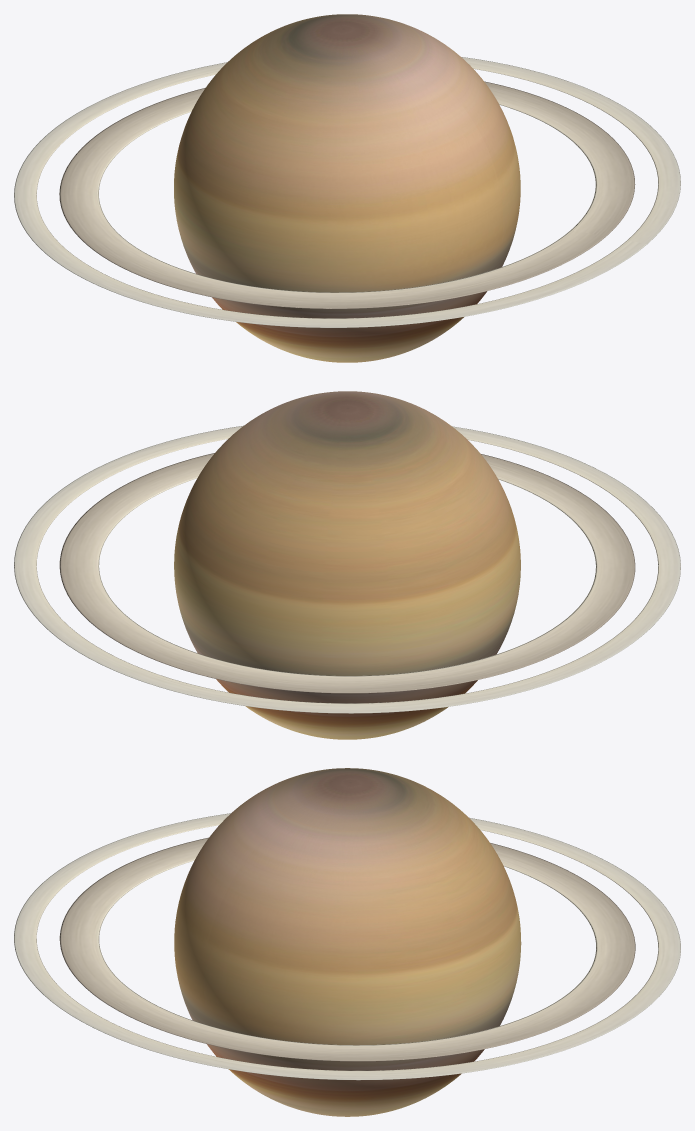
Rendered from saturn.obj.
3 renders of one model, top to bottom at view 1: azimuth 30°, elevation 25°; view 2: azimuth 150°, elevation 25°; view 3: azimuth 270°, elevation 25°, orthographic.
Visible parts, largest first — view 1: saturn; view 2: saturn; view 3: saturn.
Part boxes in pixels (left/top/right/bottom): saturn: left=14, top=14, right=680, bottom=362; saturn: left=14, top=391, right=680, bottom=739; saturn: left=14, top=768, right=680, bottom=1116.
Bounding box in the file's own units: 966 × 508 × 966.
Materials: 1 (1 with a texture image).
